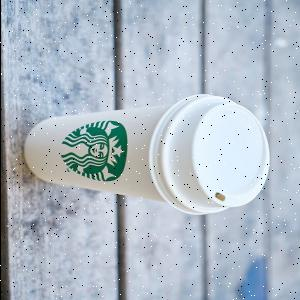Cup: (24, 95, 271, 217)
